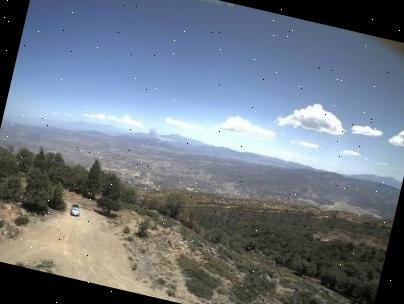smoke: (136, 119, 177, 145)
